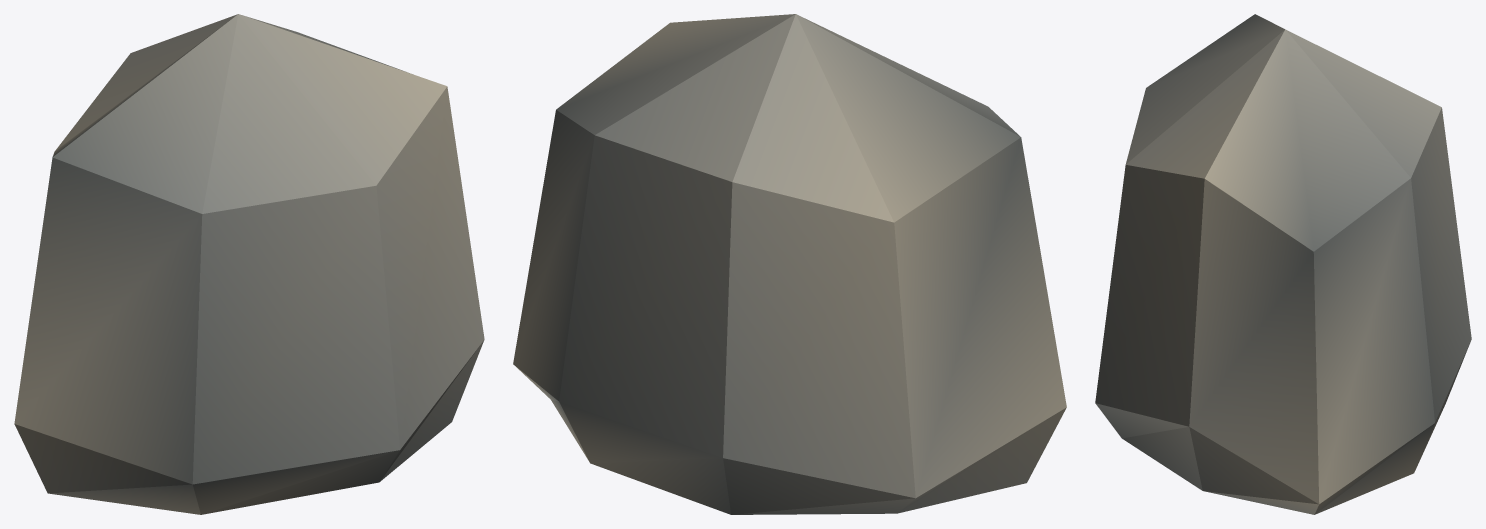
Rendered from ENV_Rock_A_LOD0.glb.
3 renders of one model, left to right at view 1: azimuth 30°, elevation 25°; view 2: azimuth 150°, elevation 25°; view 3: azimuth 270°, elevation 25°, orthographic. The views are drawn at different scales.
Parts seen in each view (by area): view 1: ENV_Rock_A_LOD0_rock; view 2: ENV_Rock_A_LOD0_rock; view 3: ENV_Rock_A_LOD0_rock.
Part boxes in pixels (bbox=[...]): ENV_Rock_A_LOD0_rock: bbox=[14, 14, 484, 514]; ENV_Rock_A_LOD0_rock: bbox=[513, 14, 1066, 514]; ENV_Rock_A_LOD0_rock: bbox=[1095, 14, 1471, 514].
Size of the model in its own units: 1.25 by 1 by 0.8856.
